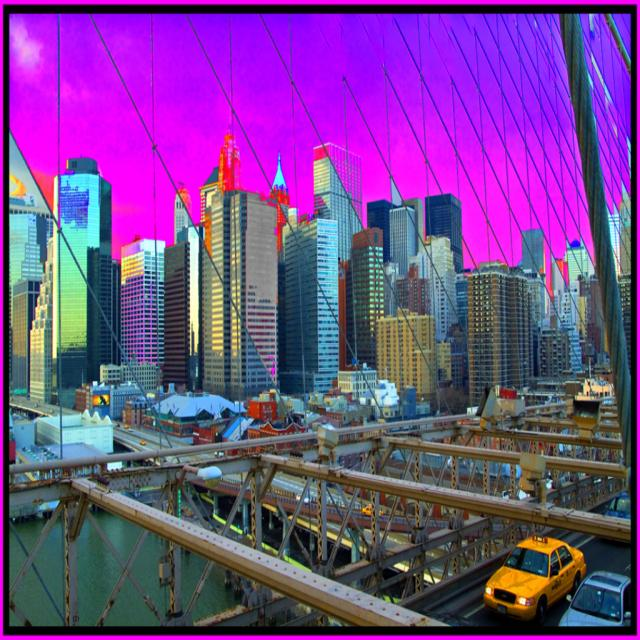car: (482, 533, 585, 622), (114, 420, 119, 425), (127, 426, 132, 431), (123, 424, 128, 427)
